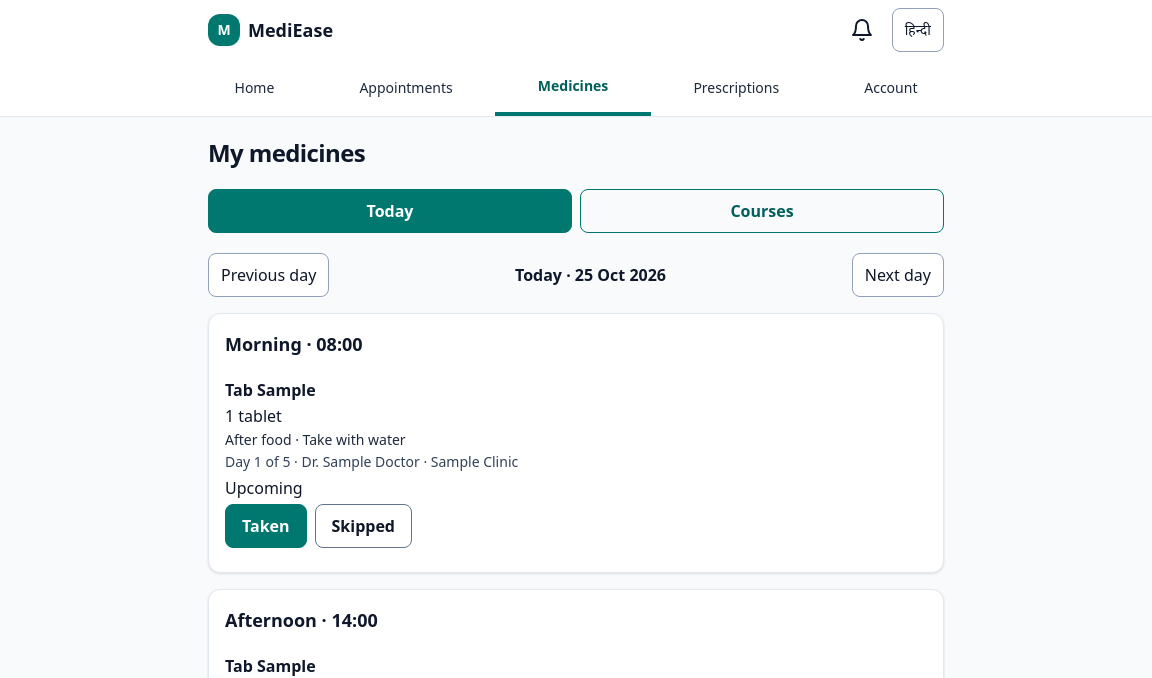
it: Dose marks (M6b-P3b, R45-R48) › R47, R49: the history lists each day with counts, never a score
Expected: the navigation bar is shown, [0,60,1151,116]
Step 1. Click the button "Courses" → (762, 211), box [580,189,944,233]
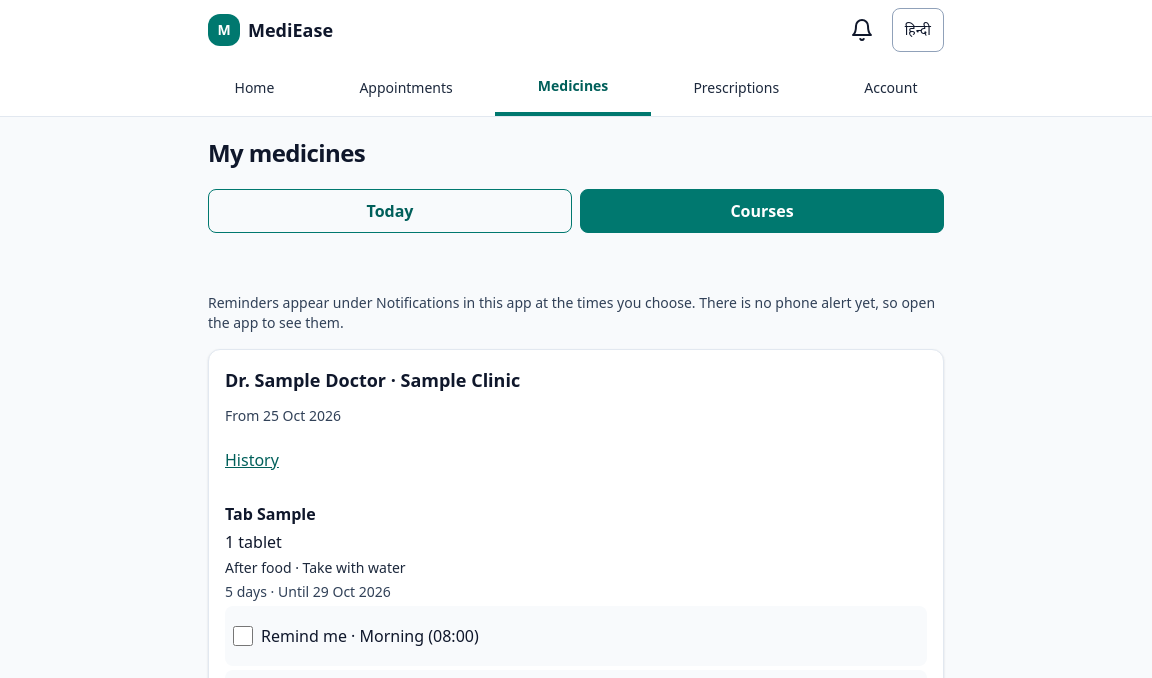
Step 2. Click the button "History" → (252, 460), box [225,438,279,482]
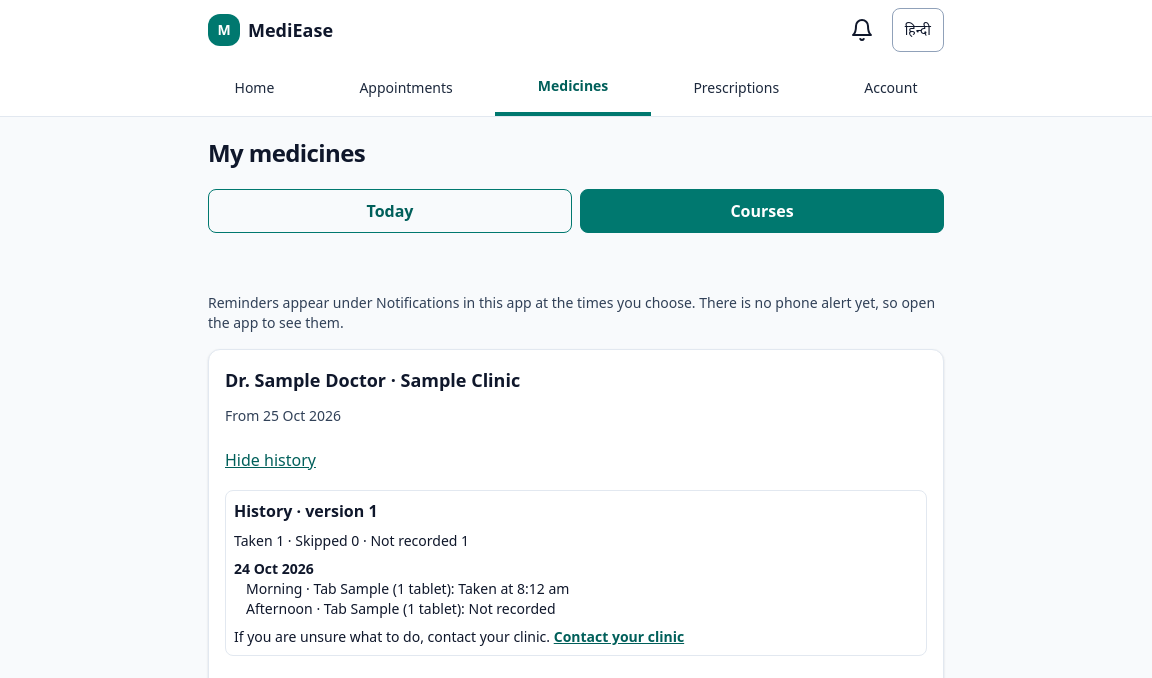
Expected: the text "Taken 1 · Skipped 0 · Not recorded 1" is shown, [234,531,469,550]
Expected: the list item "Morning · Tab Sample (1 tablet): Taken at 8:12 am" is shown, [246,579,569,598]
Expected: the list item "Afternoon · Tab Sample (1 tablet): Not recorded" is shown, [246,599,556,618]
